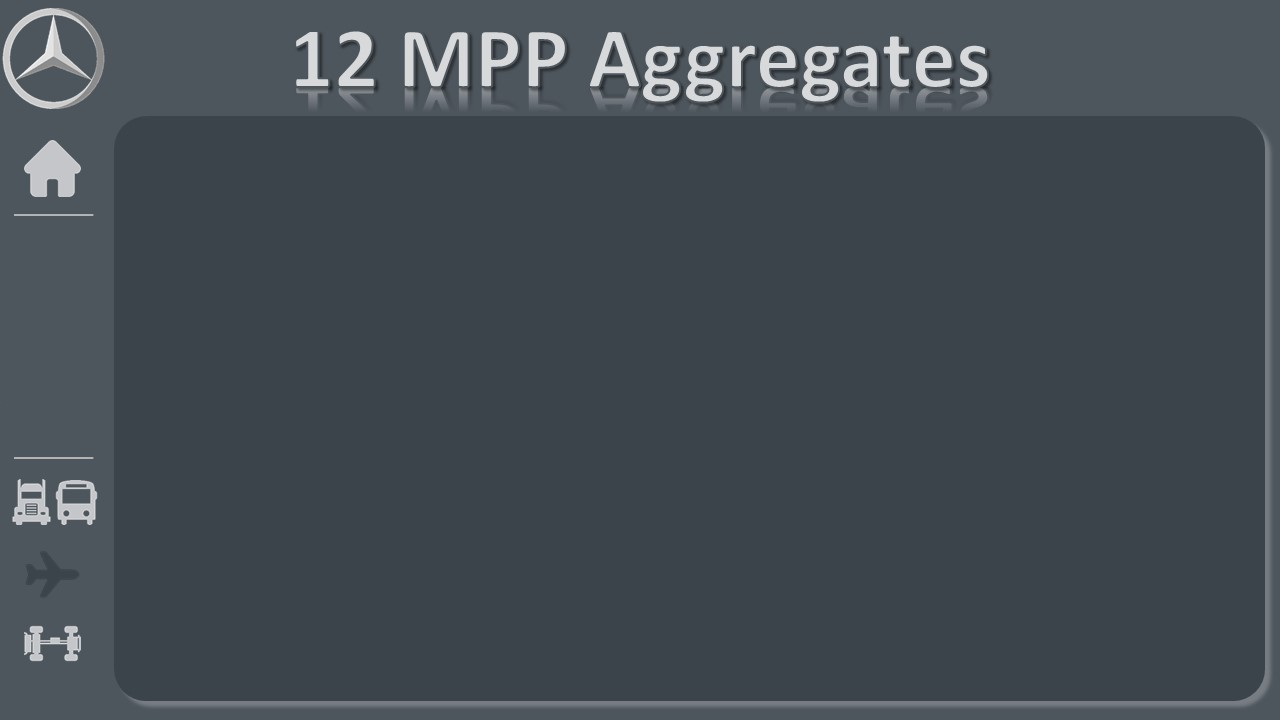

Layout of this report page (visuals, bound fields, positions):
{"tool":"powerbi","page":{"name":"HomePage","canvas":[1280,720],"ordinal":0},"visuals":[{"type":"actionButton","box":[198.9,360.1,229,86.7],"z":0},{"type":"actionButton","box":[198.9,461.9,229,72.6],"z":1000},{"type":"actionButton","box":[198.9,555.2,240.4,80.1],"z":2000},{"type":"actionButton","box":[570.3,360.1,229,86.7],"z":3000},{"type":"actionButton","box":[566.5,461.9,229,72.6],"z":4000},{"type":"actionButton","box":[570.3,555.2,240.4,80.1],"z":5000},{"type":"actionButton","box":[934.1,360.1,229,86.7],"z":6000},{"type":"actionButton","box":[931.3,461.9,229,72.6],"z":7000},{"type":"actionButton","box":[936,555.2,240.4,80.1],"z":8000}]}

Visuals, with their boxes in screenshot pixels (x1, y1, x2, y2), scaled from the page's 1280x720 canvas onto the 1280x720 screenshot:
actionButton: (199,360,428,447)
actionButton: (199,462,428,534)
actionButton: (199,555,439,635)
actionButton: (570,360,799,447)
actionButton: (566,462,796,534)
actionButton: (570,555,811,635)
actionButton: (934,360,1163,447)
actionButton: (931,462,1160,534)
actionButton: (936,555,1176,635)
